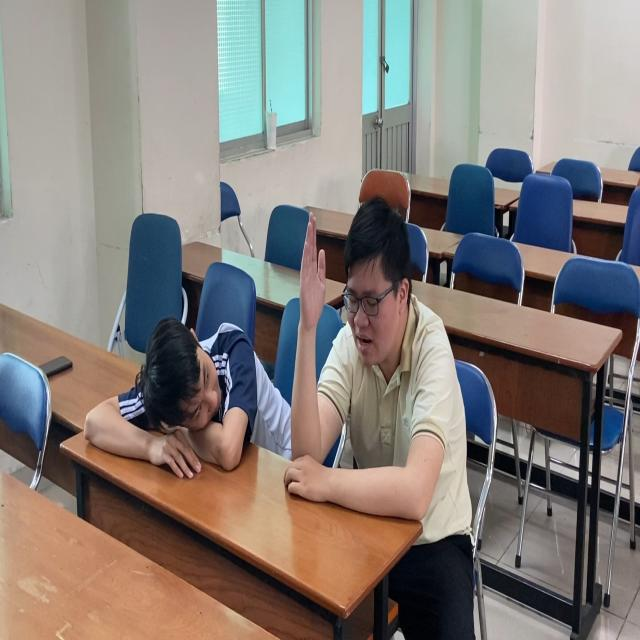raise_hand: (291, 194, 451, 523)
